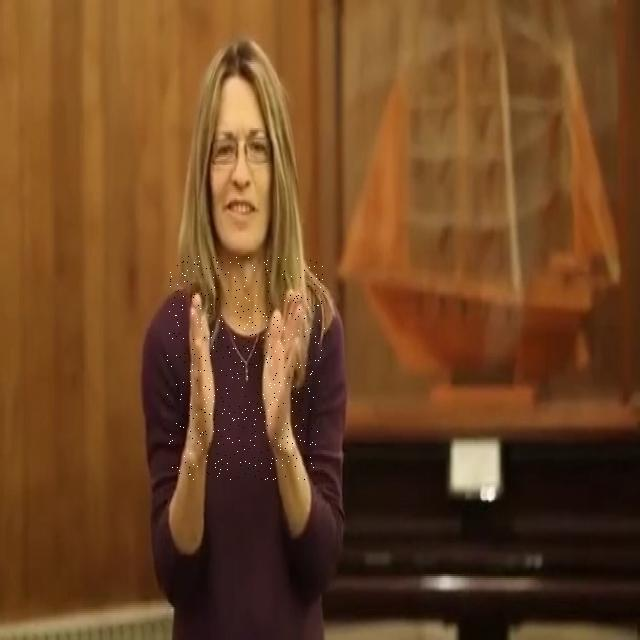small: (167, 256, 325, 480)
